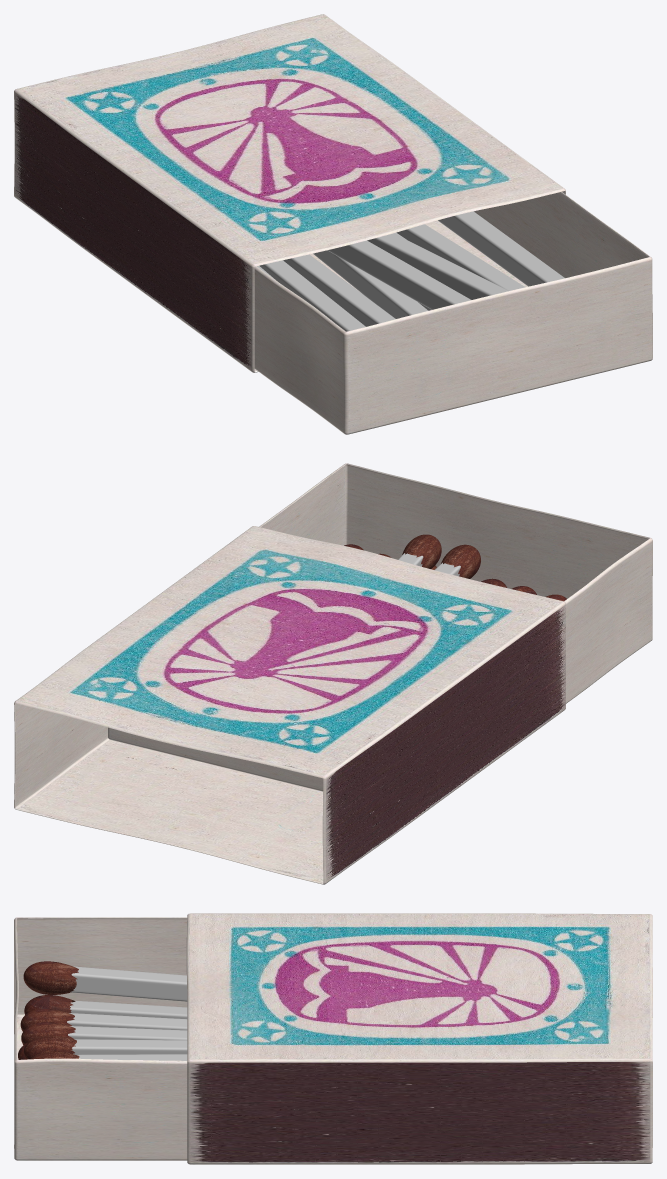
Rendered from Matches.fbx.
3 renders of one model, top to bottom at view 1: azimuth 30°, elevation 25°; view 2: azimuth 150°, elevation 25°; view 3: azimuth 270°, elevation 25°, orthographic. The views are drawn at different scales.
Parts seen in each view (by area): view 1: box1, box2, Сфера_5, Сфера_11, Сфера_10, Сфера, Сфера_1, Сфера_4, Сфера_3; view 2: box1, box2, Сфера_5, Сфера_10; view 3: box1, box2, Сфера_9, Сфера_5, Сфера_7, Сфера_6, Сфера_3, Сфера_10.
Part boxes in pixels (left/top/right/bottom): box1: left=14, top=14, right=565, bottom=372; box2: left=254, top=192, right=652, bottom=434; Сфера_5: left=327, top=240, right=471, bottom=309; Сфера_11: left=438, top=211, right=564, bottom=286; Сфера_10: left=367, top=233, right=508, bottom=299; Сфера: left=283, top=254, right=395, bottom=326; Сфера_1: left=313, top=250, right=428, bottom=318; Сфера_4: left=396, top=224, right=524, bottom=290; Сфера_3: left=259, top=260, right=365, bottom=331; box1: left=14, top=526, right=565, bottom=884; box2: left=108, top=463, right=652, bottom=791; Сфера_5: left=434, top=544, right=480, bottom=578; Сфера_10: left=398, top=534, right=441, bottom=568; box1: left=186, top=913, right=652, bottom=1164; box2: left=14, top=917, right=187, bottom=1160; Сфера_9: left=23, top=961, right=187, bottom=1001; Сфера_5: left=23, top=1035, right=187, bottom=1059; Сфера_7: left=20, top=1009, right=187, bottom=1031; Сфера_6: left=24, top=995, right=187, bottom=1018; Сфера_3: left=21, top=1022, right=187, bottom=1044; Сфера_10: left=30, top=1051, right=187, bottom=1060.
Bounding box in the file's own units: 151 × 51.2 × 276.
